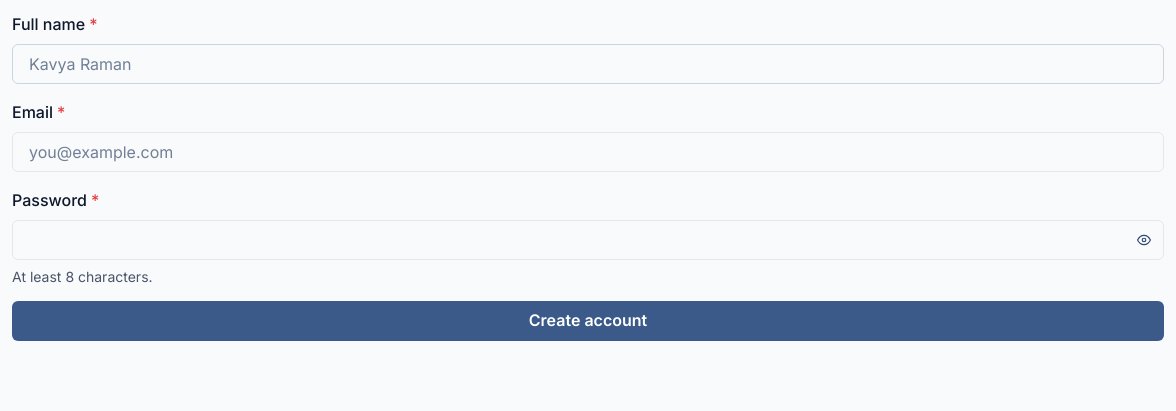
Test: RegisterForm › validates name, email and password length
The width and height of the screenshot is (1176, 411).
Type "bad-email" into the field labelled "Email*" at (588, 152), box [12,132,1164,172]
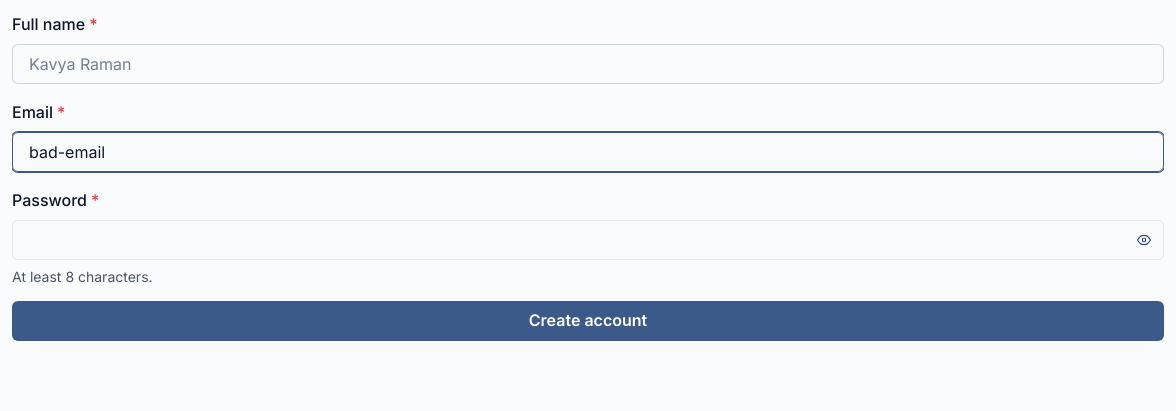
Type "short" into the password field labelled "Password*" at (588, 240), box [12,220,1164,260]
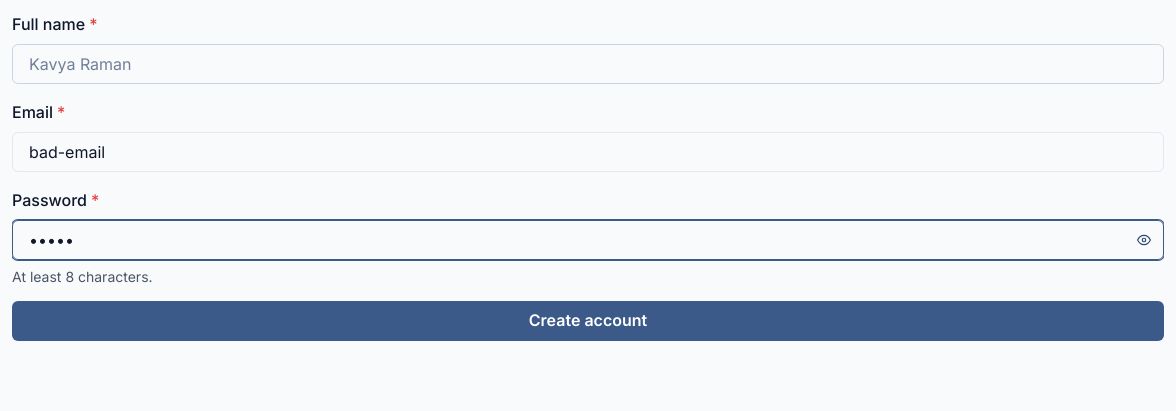
Click the button "Create account" at (588, 321), box [12,301,1164,341]
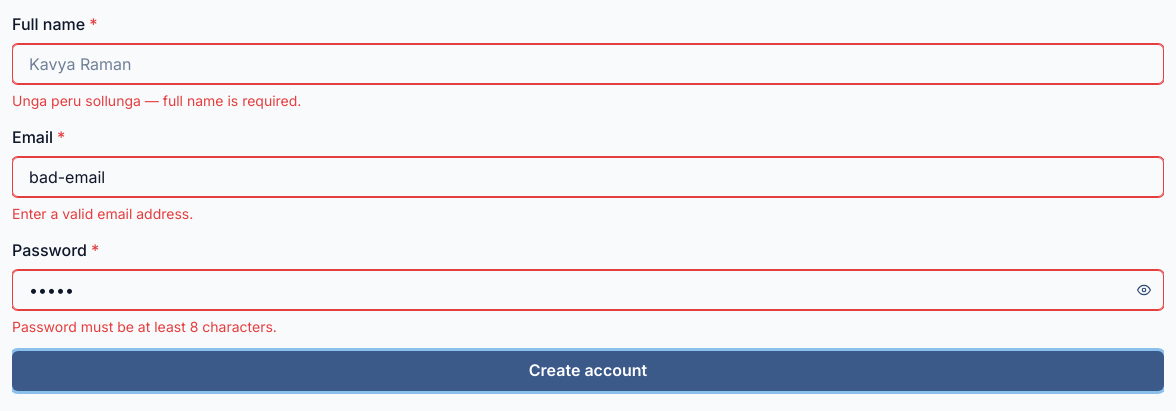
Now the text "Unga peru sollunga — full name is required." is shown, box [12,92,301,109]
Now the text "Enter a valid email address." is shown, box [12,205,193,222]
Now the text "Password must be at least 8 characters." is shown, box [12,318,277,335]
